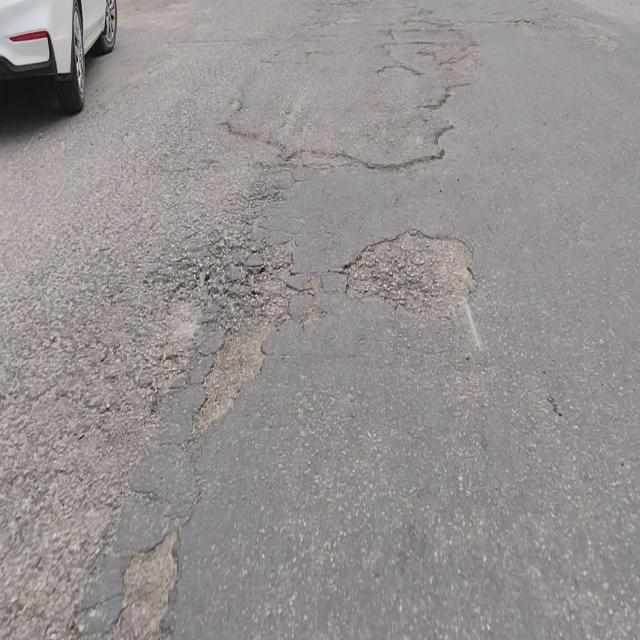Potholes: (196, 258, 292, 429), (101, 476, 187, 640), (348, 227, 476, 315)
